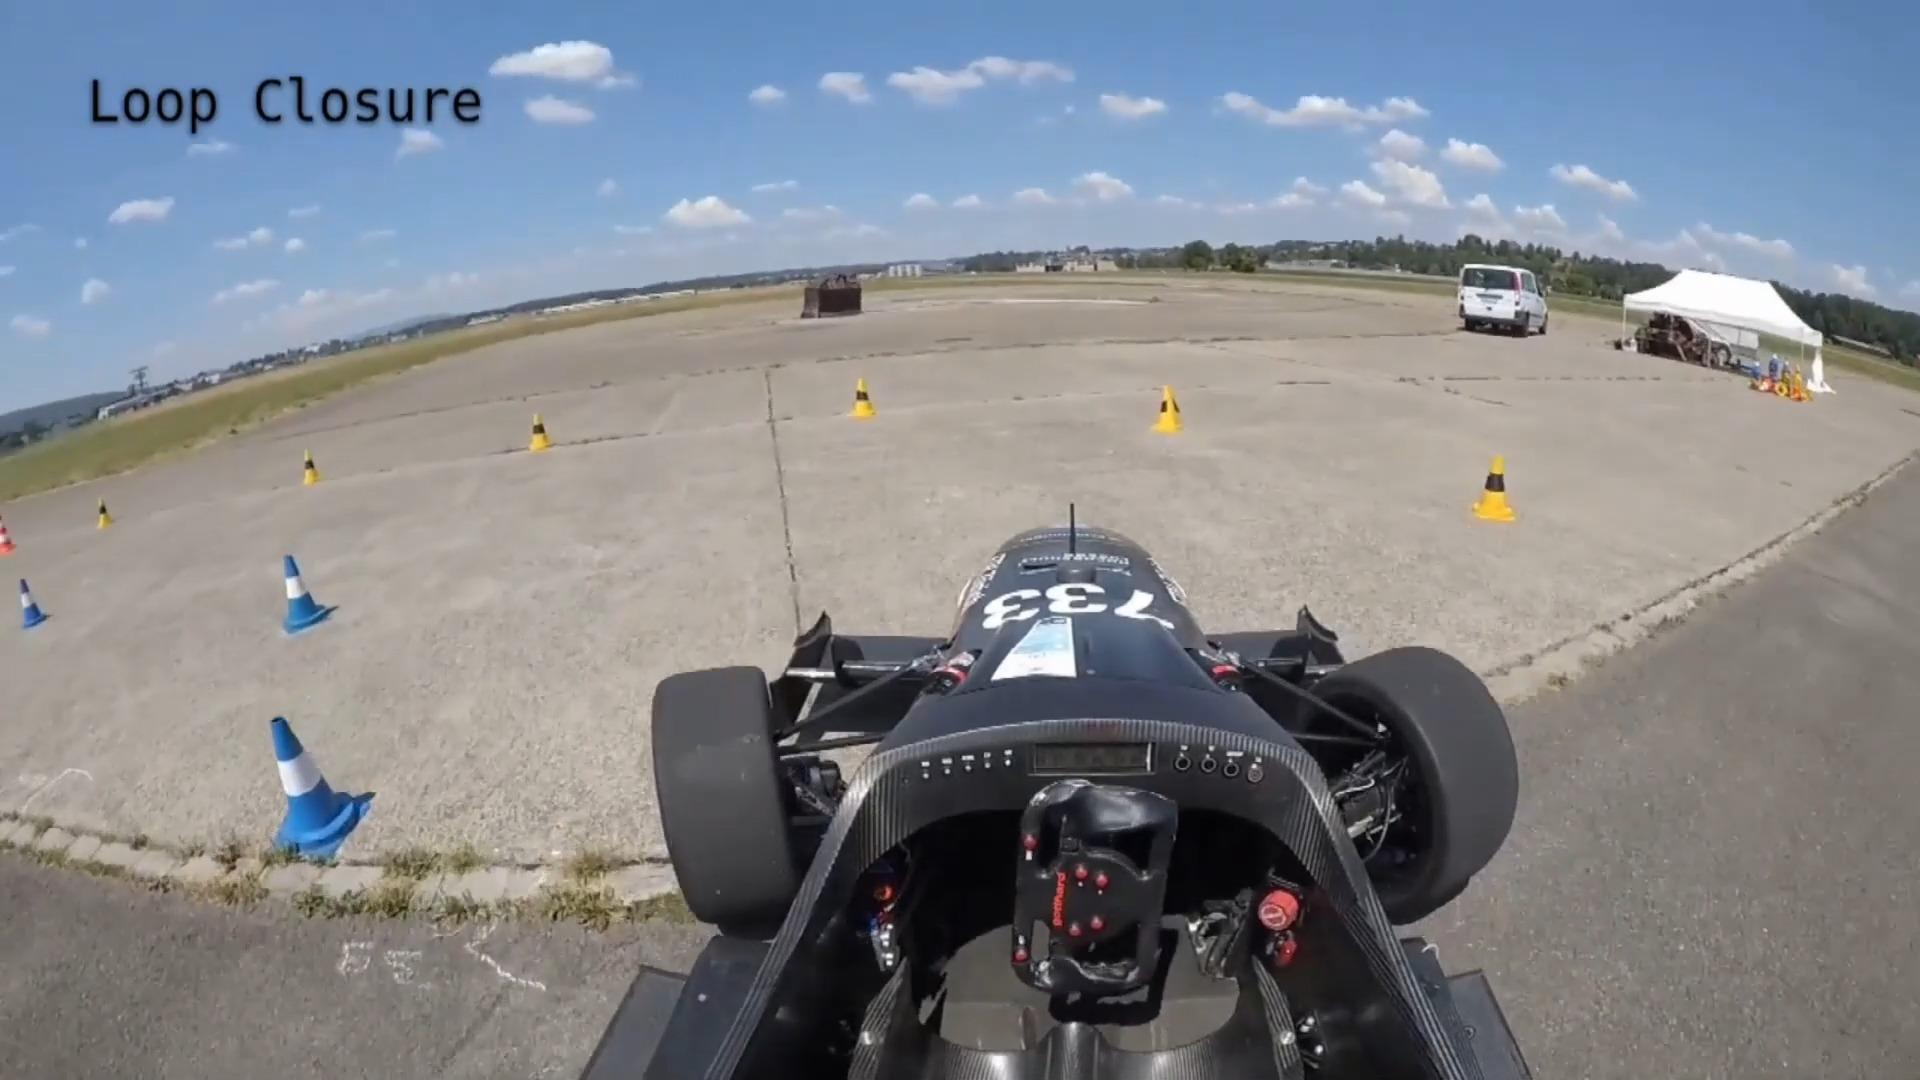blue_cone: (262, 712, 374, 868), (274, 554, 340, 636), (13, 578, 51, 629)
large_orange_cone: (0, 502, 20, 558)
yellow_cone: (1471, 454, 1523, 525), (1148, 383, 1187, 436), (848, 375, 880, 419), (527, 413, 555, 452), (300, 450, 323, 485), (96, 496, 114, 530)
